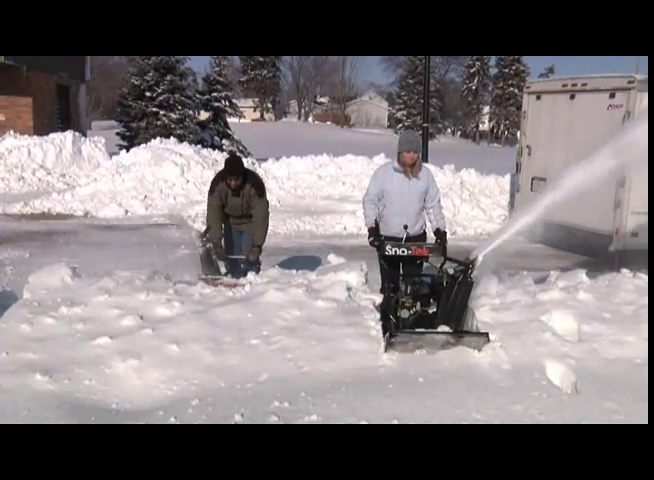person: (362, 130, 446, 292), (205, 155, 269, 279)
